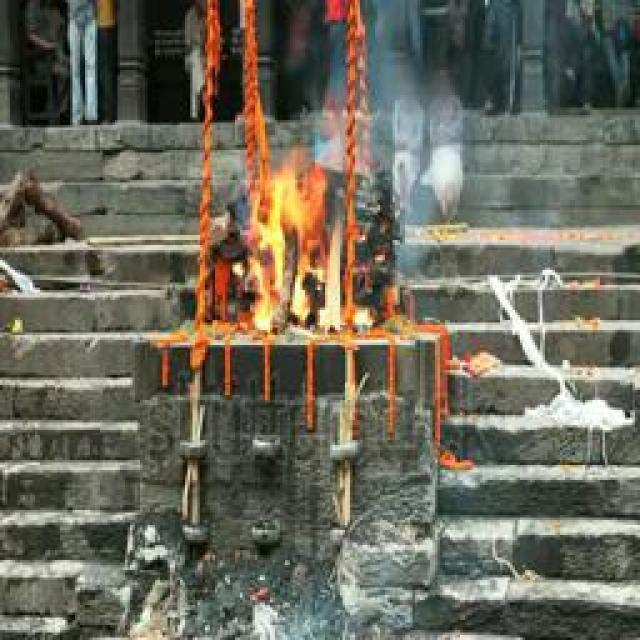Fire: (246, 150, 358, 330)
